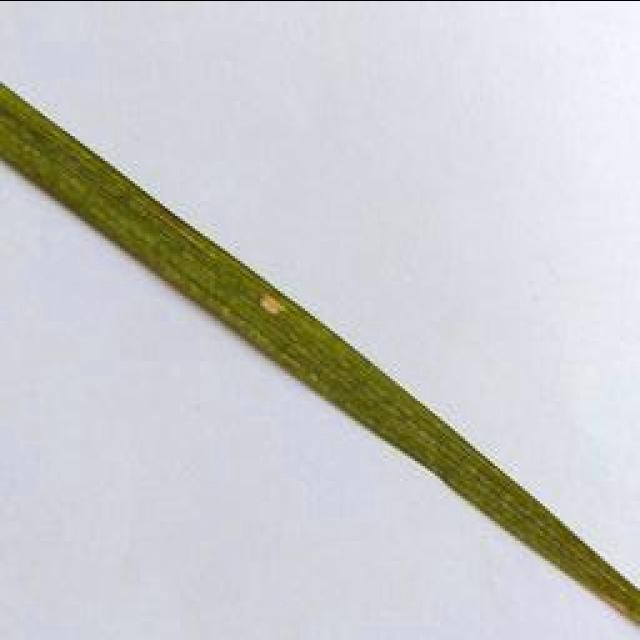Unhealthy: (259, 292, 285, 316)
